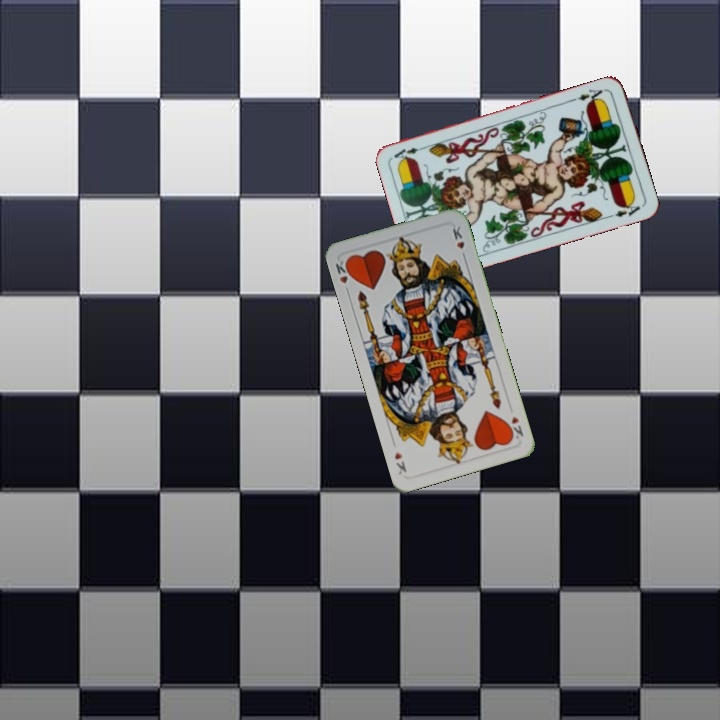EA: (569, 84, 609, 106)
HK: (331, 255, 355, 286), (503, 412, 526, 443)
